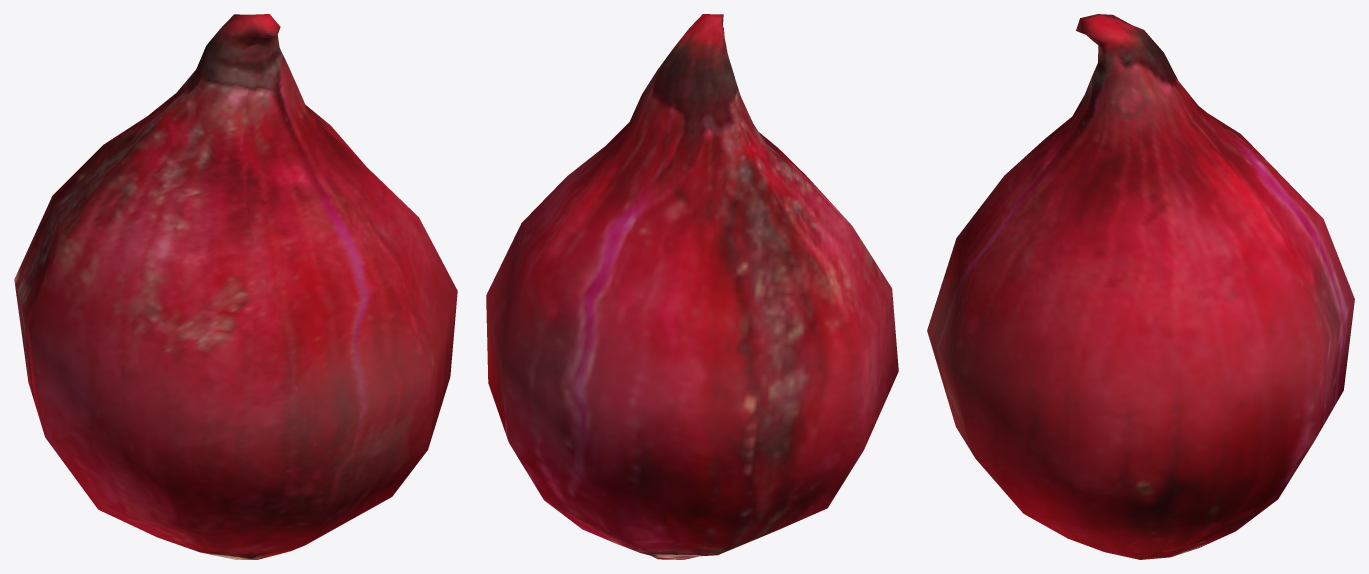
Rendered from Prop_Vegetables_Onion.fbx.
3 views of the same model, side by side, from view 1: azimuth 30°, elevation 25°; view 2: azimuth 150°, elevation 25°; view 3: azimuth 270°, elevation 25° (orthographic). The views are drawn at different scales.
Visible parts, largest first — view 1: Prop_Vegetables_Onion; view 2: Prop_Vegetables_Onion; view 3: Prop_Vegetables_Onion.
Part boxes in pixels (bbox=[...]): Prop_Vegetables_Onion: bbox=[14, 14, 457, 559]; Prop_Vegetables_Onion: bbox=[486, 14, 898, 559]; Prop_Vegetables_Onion: bbox=[927, 14, 1354, 559].
Size of the model in its own units: 5.27 by 7.42 by 5.42.
